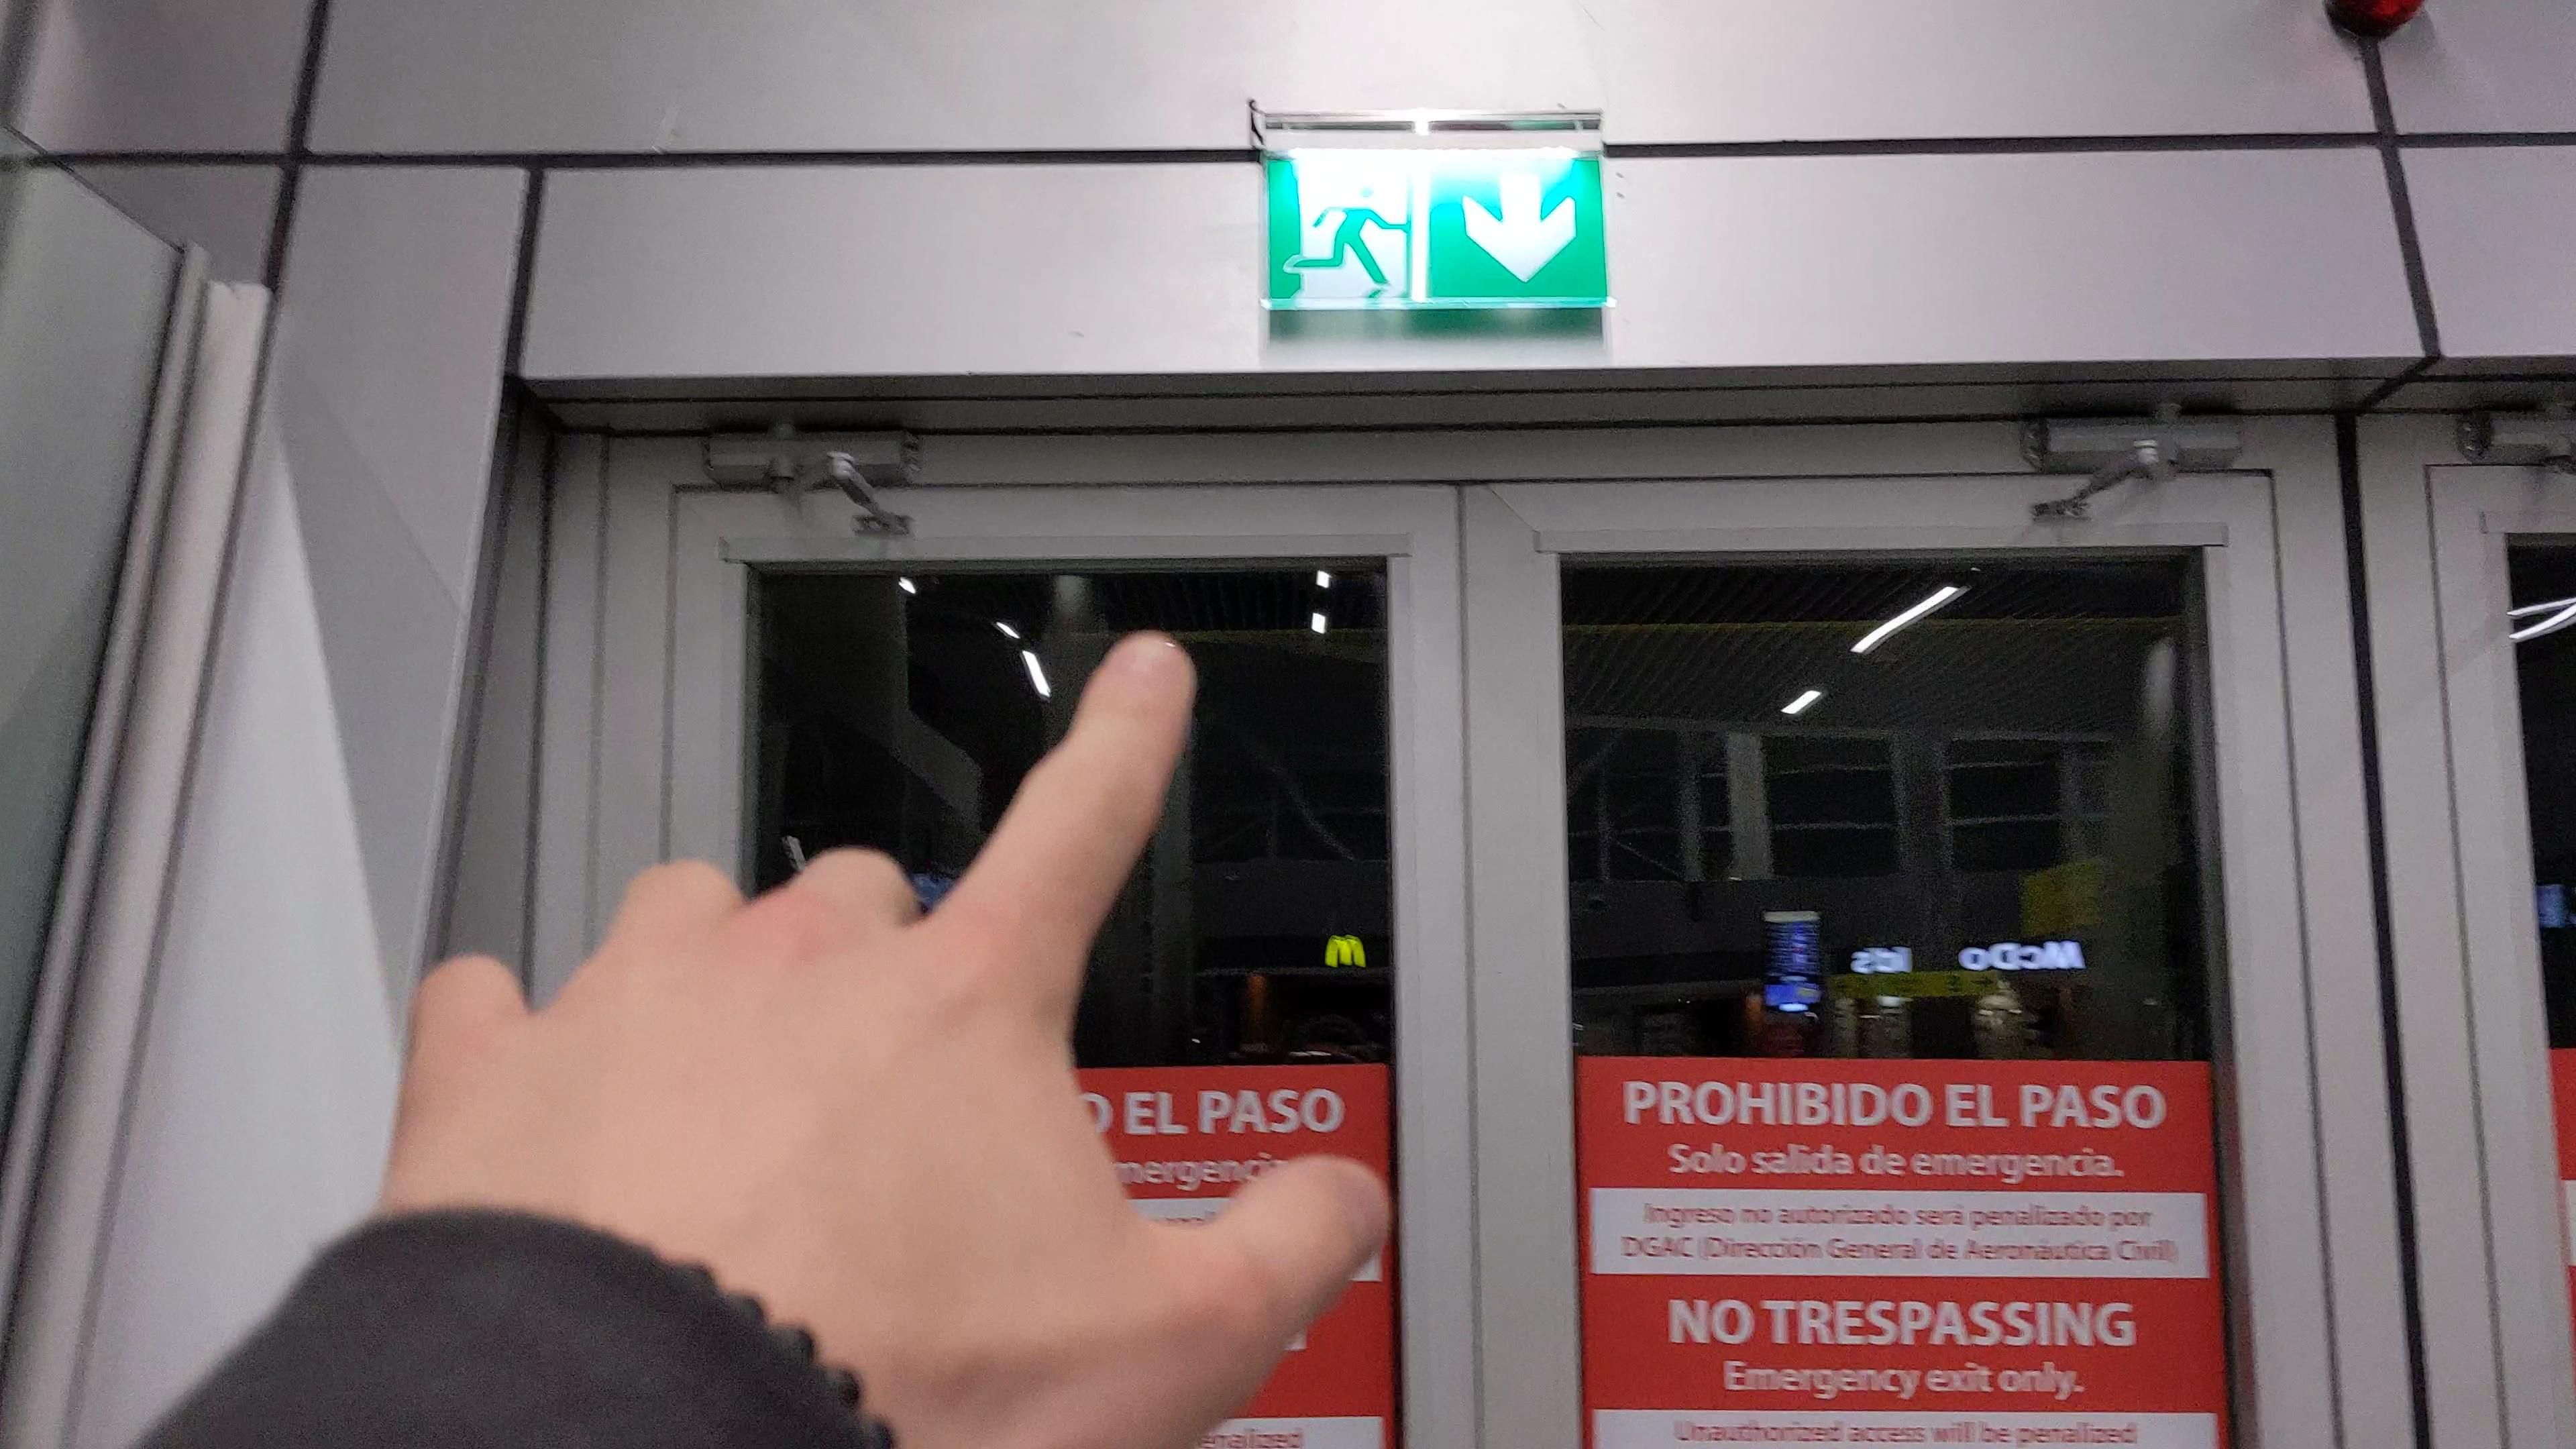emergency down arrow: (1454, 157, 1582, 288)
emergency exit: (1283, 161, 1410, 299)
no trespassing: (1589, 1062, 2204, 1449)
